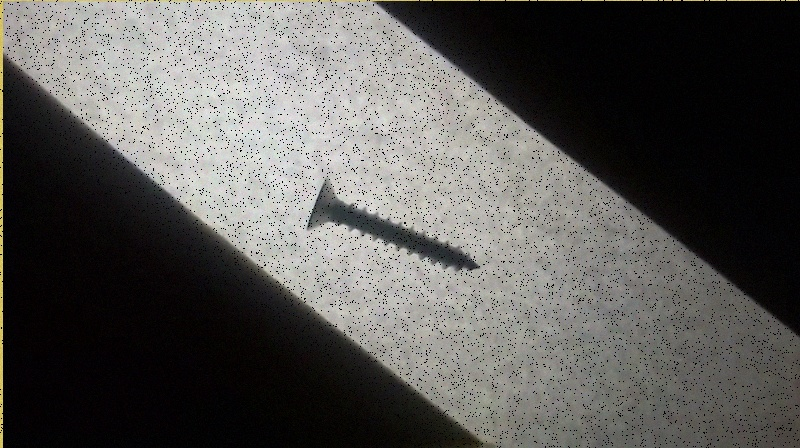S001: (303, 175, 486, 275)
